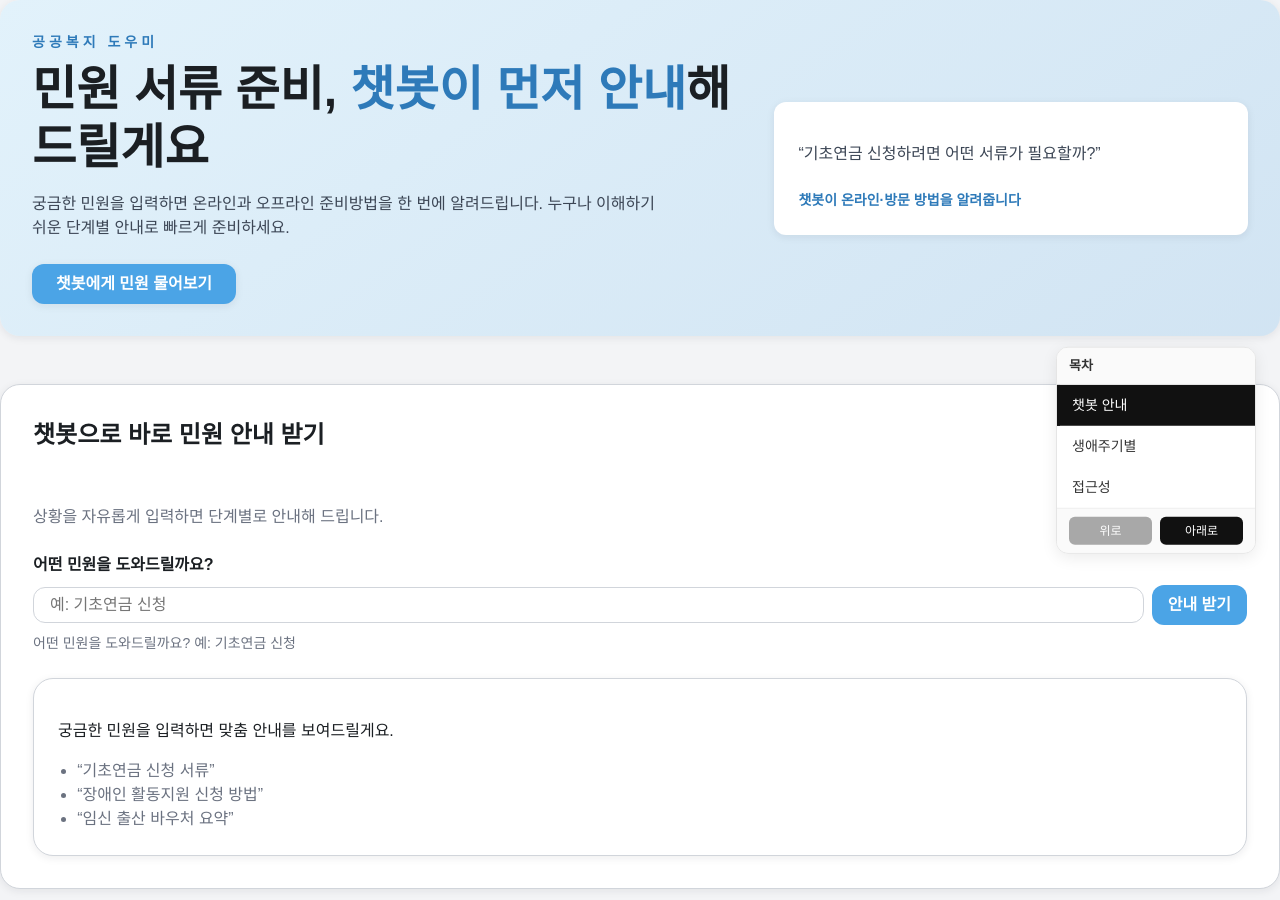
Scenario: HomePage chatbot guidance › offers helpful message when no service is found
The image size is (1280, 900).
Type "없는 민원" into the field labelled "어떤 민원을 도와드릴까요?".
click(588, 605); type("없는 민원")  # box [33, 587, 1144, 623]
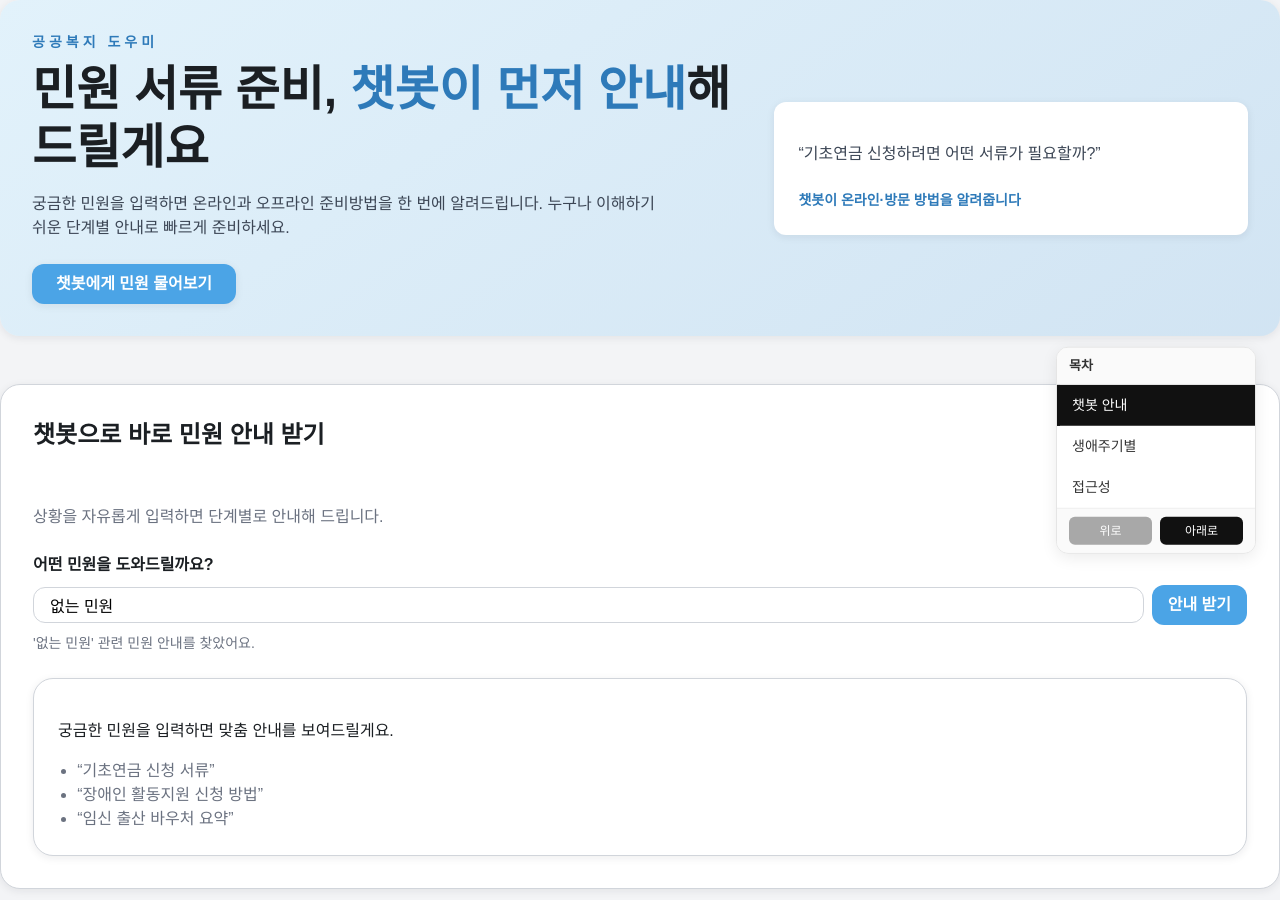
Submit the form labelled "어떤 민원을 도와드릴까요?", box [33, 553, 1247, 654]
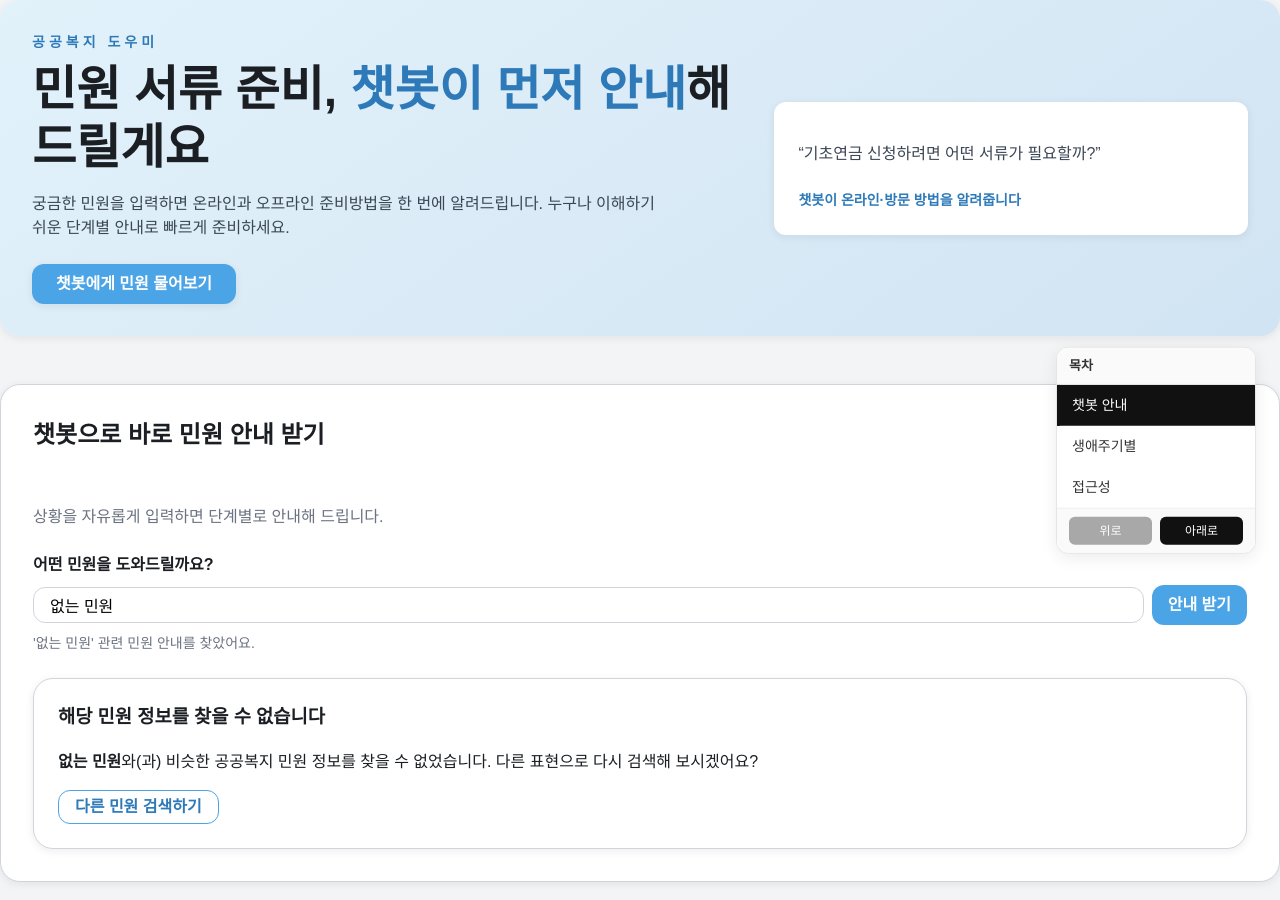
Result: the heading "해당 민원 정보를 찾을 수 없습니다" is shown at [58, 706, 325, 727]
